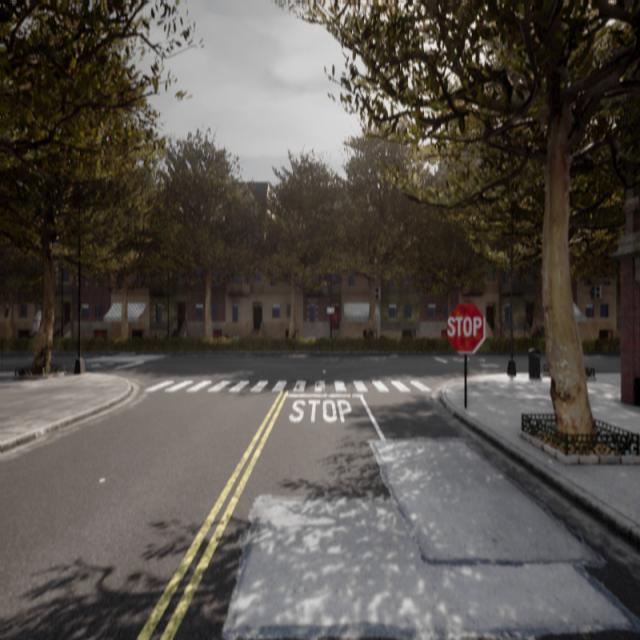stop sign: (443, 299, 487, 356), (446, 313, 483, 339)
